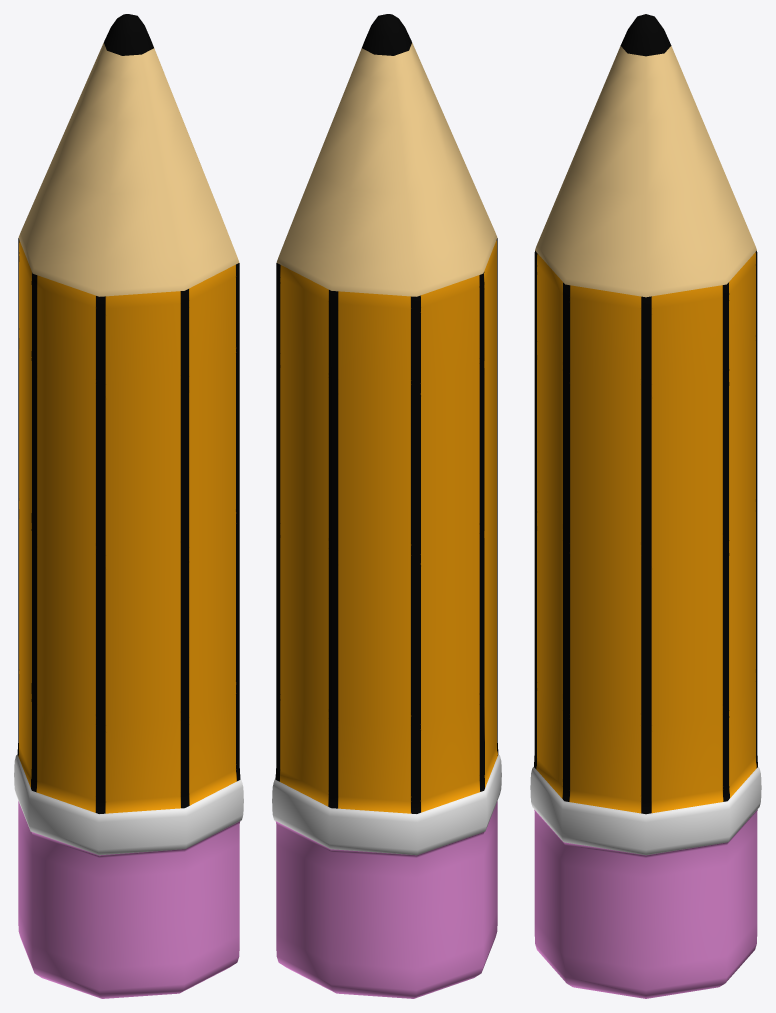
Rendered from lapiz.fbx.
3 renders of one model, left to right at view 1: azimuth 30°, elevation 25°; view 2: azimuth 150°, elevation 25°; view 3: azimuth 270°, elevation 25°, orthographic.
Visible parts, largest first — view 1: Cube; view 2: Cube; view 3: Cube.
Part boxes in pixels (x1,y1,x2,y2): Cube: (14,14,243,998); Cube: (272,14,501,998); Cube: (530,14,761,998).
Bounding box in the file's own units: 1.14 × 5.18 × 1.14.
1 material, 1 textured.
